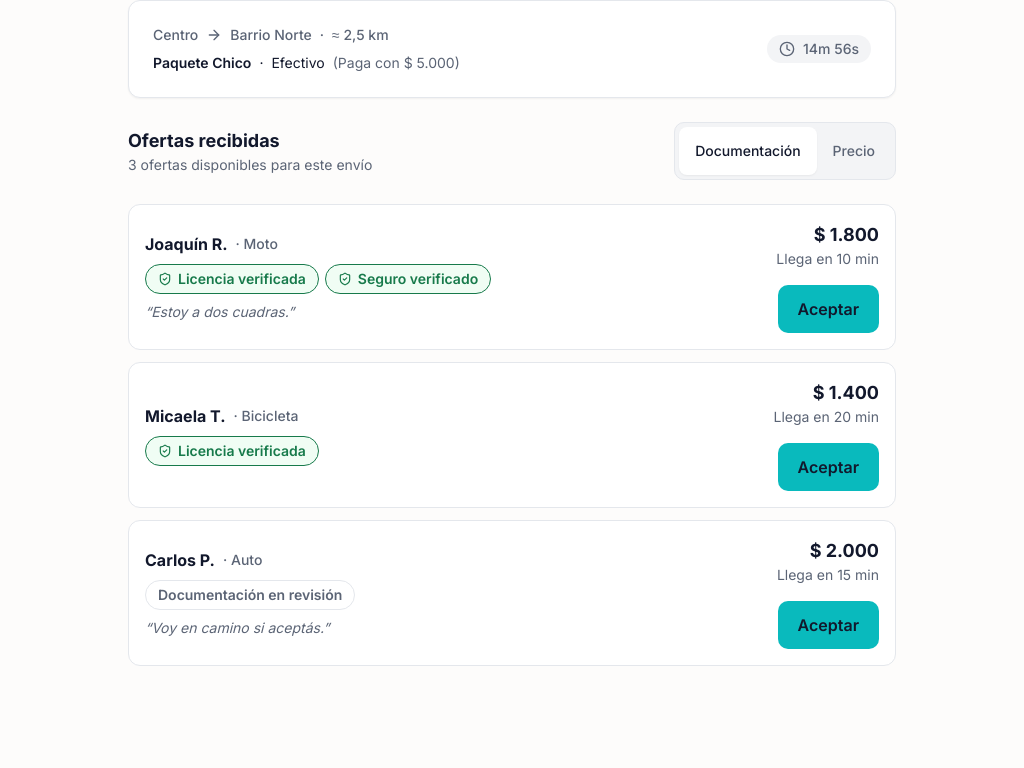
Test case: T-113 DoD: UI de ofertas en tiempo real y aceptación › T-359: Redirección y estado post-aceptación › H02: carrera concurrente con ALREADY_MATCHED bloquea inmediatamente todos los botones Aceptar e impide nuevas acciones de match
Click the button "Aceptar" below "10".
click(828, 309)  # box [778,285,879,333]
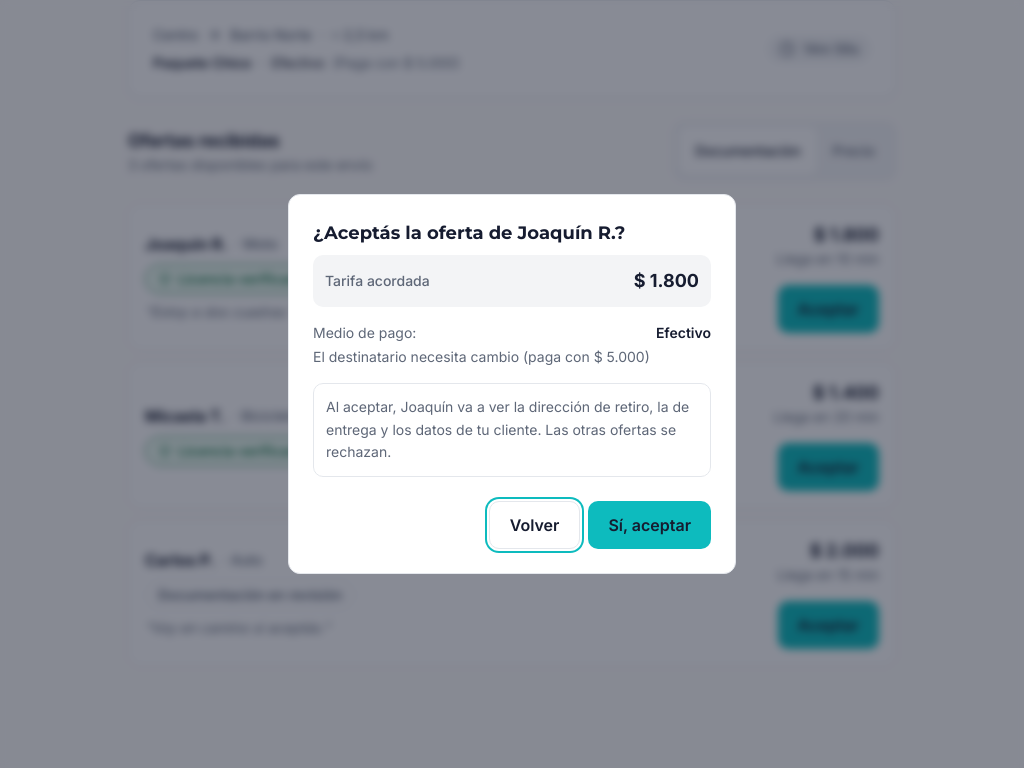
Click the button "Sí, aceptar".
click(650, 525)  # box [588,501,711,549]
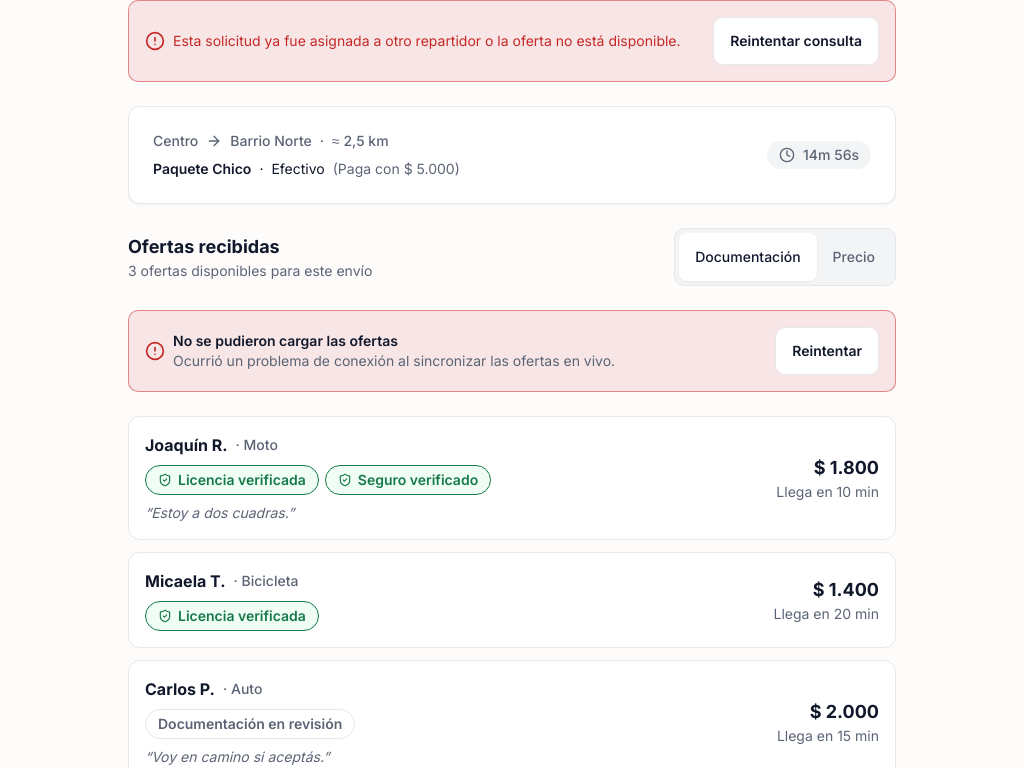
Result: the button "Sí, aceptar" is gone
Result: no buttons "Aceptar" are shown
